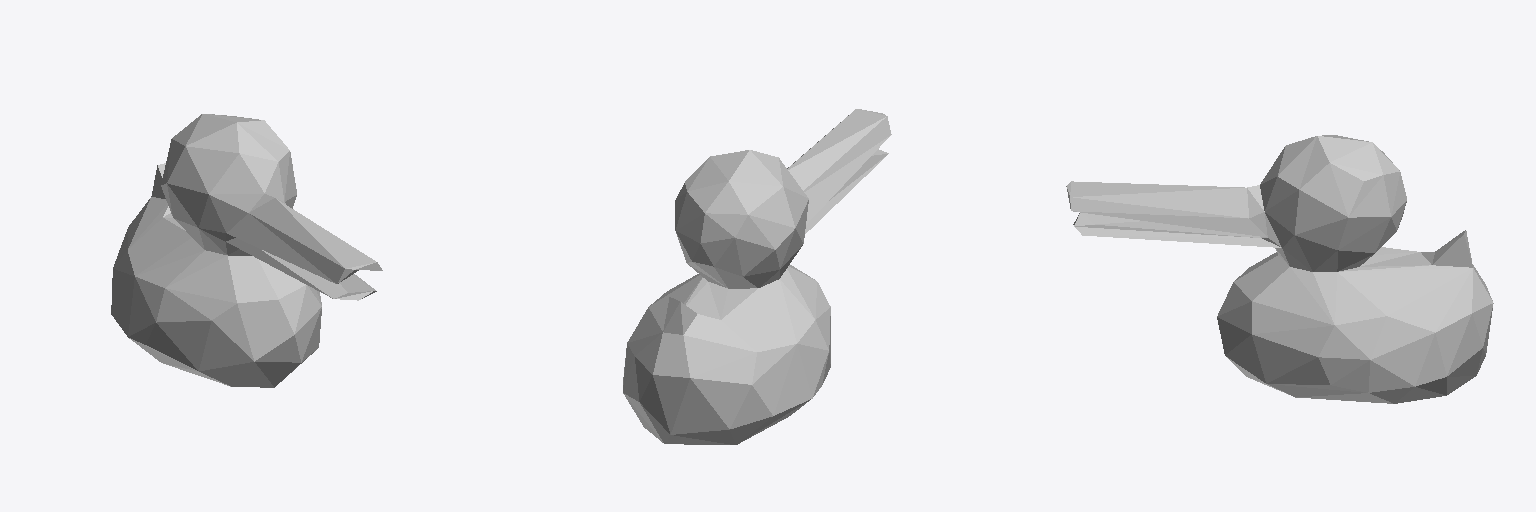
File: Sniper_Ducky.obj
3 views of the same model, side by side, from view 1: azimuth 30°, elevation 25°; view 2: azimuth 150°, elevation 25°; view 3: azimuth 270°, elevation 25° (orthographic).
Parts seen in each view (by area): view 1: rubber_duck_toy.001; view 2: rubber_duck_toy.001; view 3: rubber_duck_toy.001.
Boxes of the visible parts, x1,y1,x2,y2 form: rubber_duck_toy.001: [111, 114, 382, 387]; rubber_duck_toy.001: [623, 109, 891, 444]; rubber_duck_toy.001: [1066, 135, 1493, 403].
Bounding box in the file's own units: 1.08 × 1.43 × 2.31.